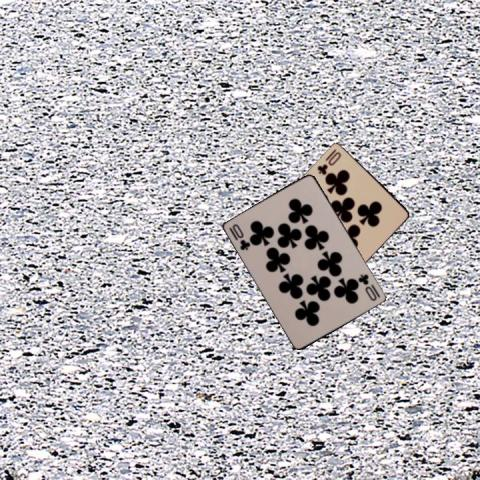10c: (314, 146, 343, 176), (355, 271, 382, 303), (226, 221, 252, 252)
